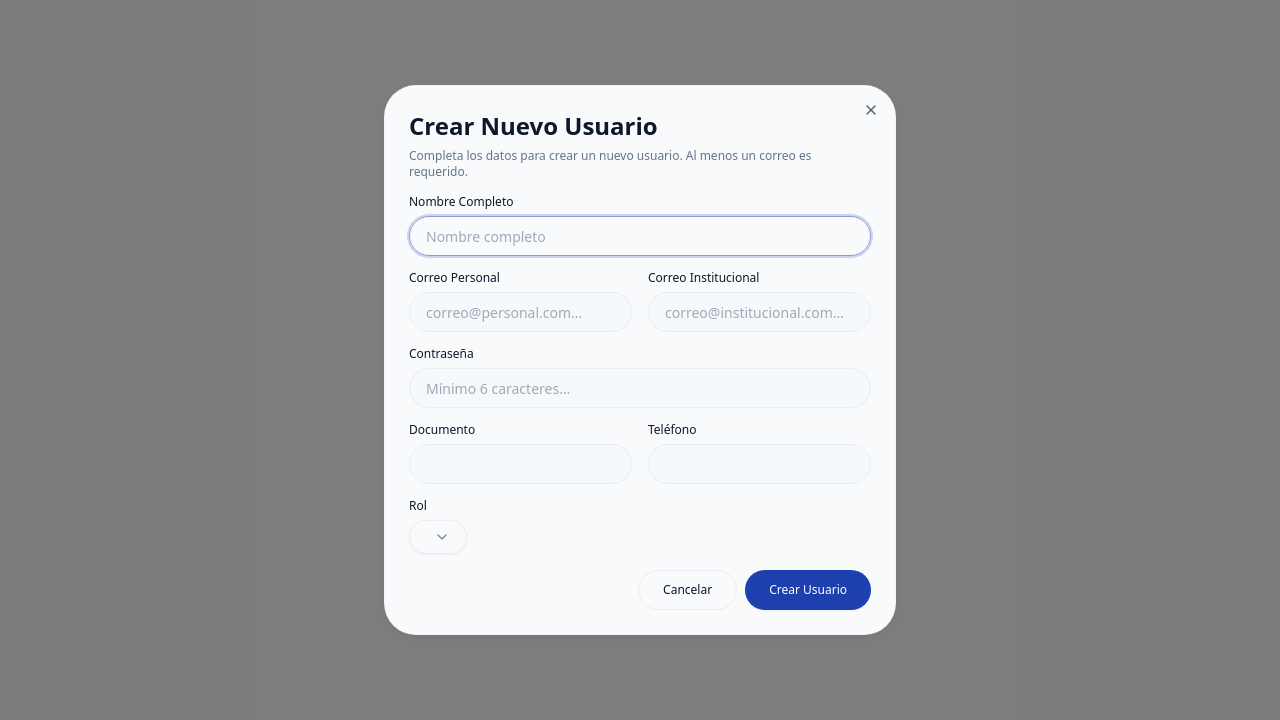
Test: CreateUserModal › debería validar que el nombre es requerido
Check: the field labelled "Nombre Completo" is shown, box [409,216,871,256]
Click the button "Crear Usuario" at (808, 590), box [745,570,871,610]
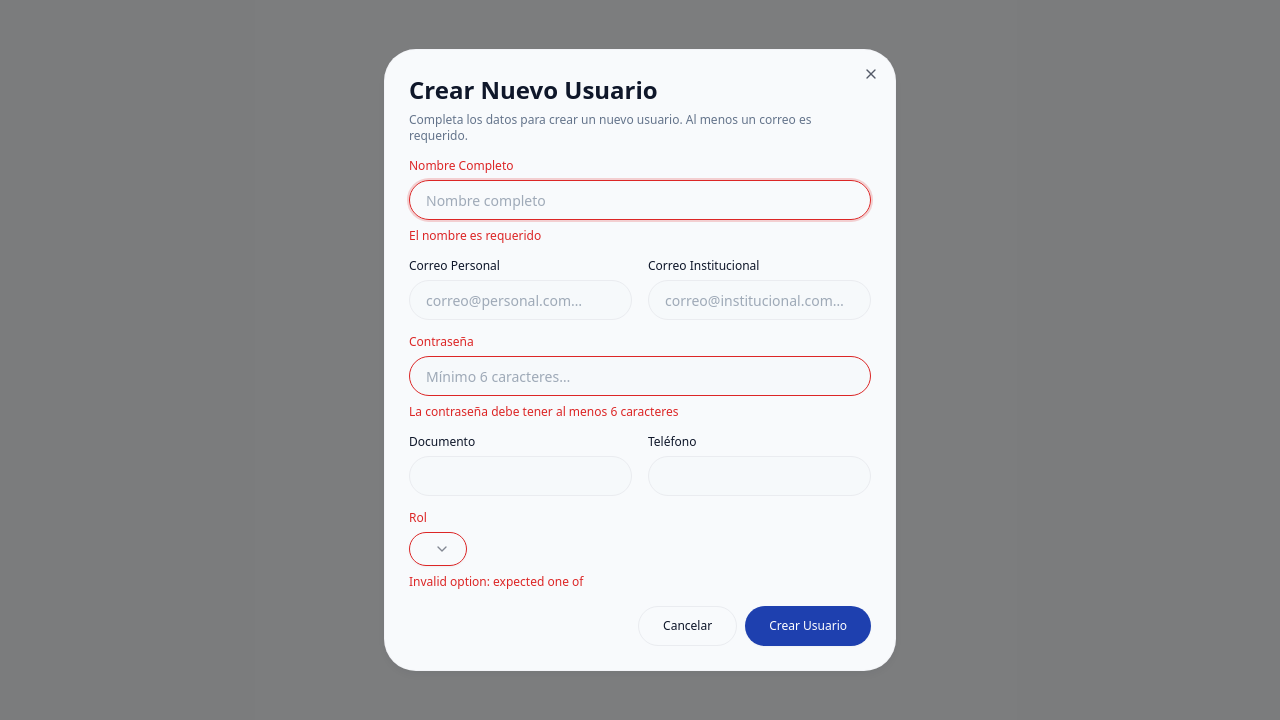
Check: the text "El nombre es requerido" is shown, box [409,227,541,244]
